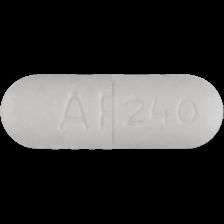60429-751: (0, 0, 224, 224)
